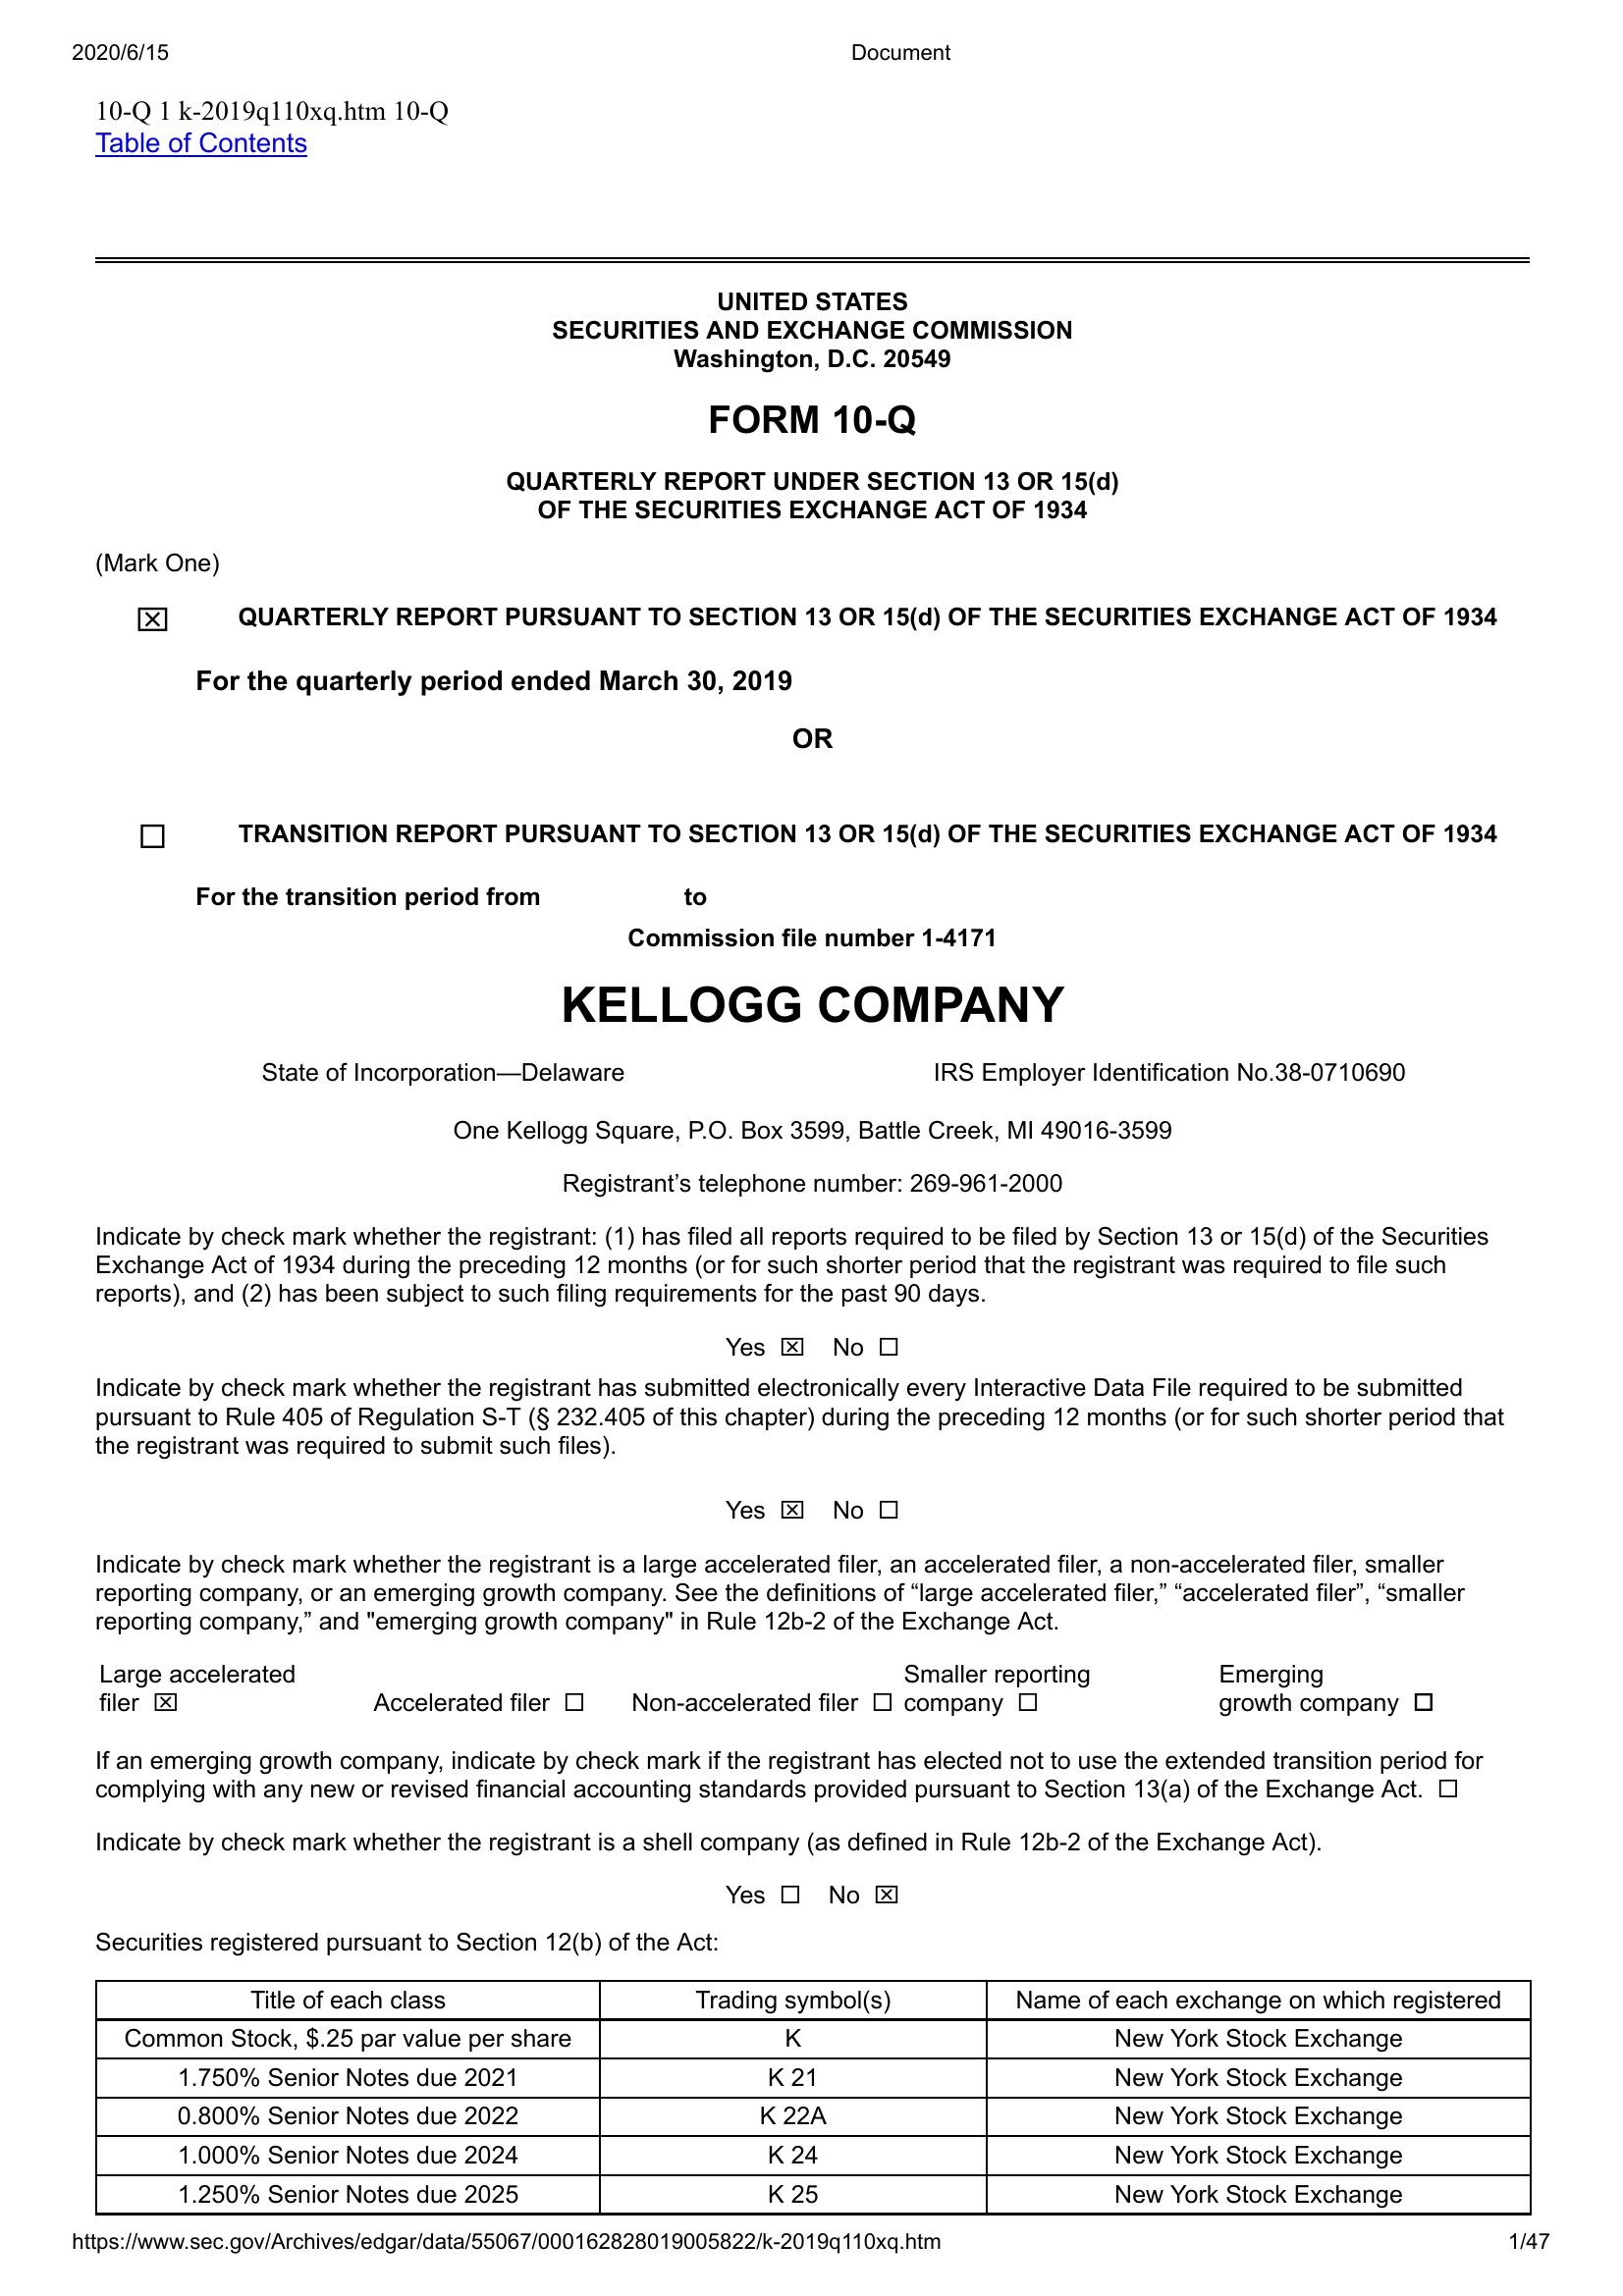table: (84, 1975, 1540, 2224)
